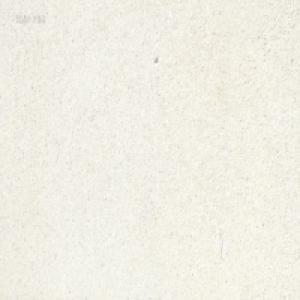Wrench: (198, 0, 205, 5)
